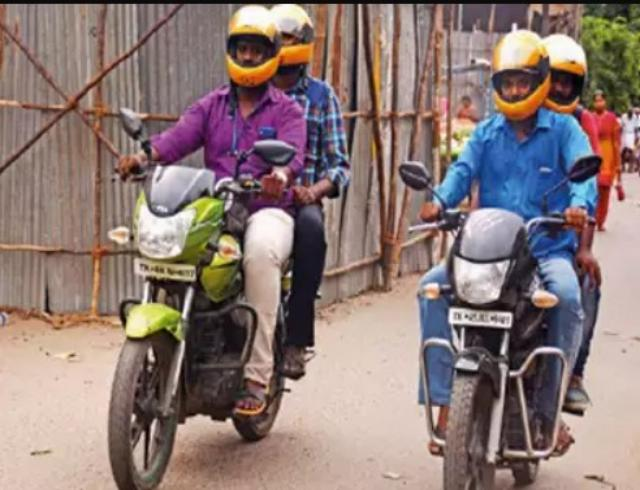licensePlate: (132, 254, 204, 285), (443, 307, 515, 328)
motorcycle: (106, 3, 344, 490), (422, 26, 600, 490)
withHelmet: (488, 31, 543, 112), (226, 6, 278, 84), (540, 29, 586, 109), (270, 8, 318, 76)
